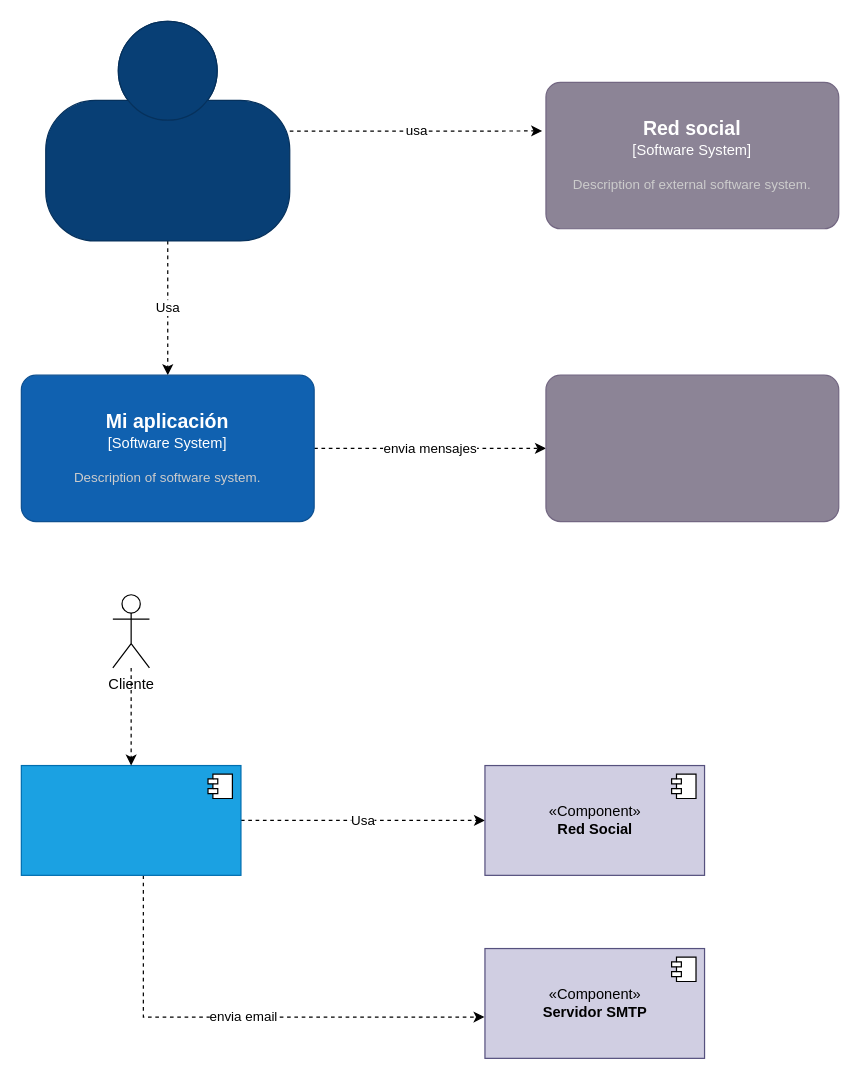
This 860x1080 diagram has some shape labels left out. Here are the shapes that lost their labels. From the top down, the centre of each, then its label:
At pixel 167 130: "Person name [Person] Description of person.".
At pixel 692 448: "Servidor SMTP [Software System] Description of external software system.".
At pixel 130 819: "«Component» Mi aplicación".
